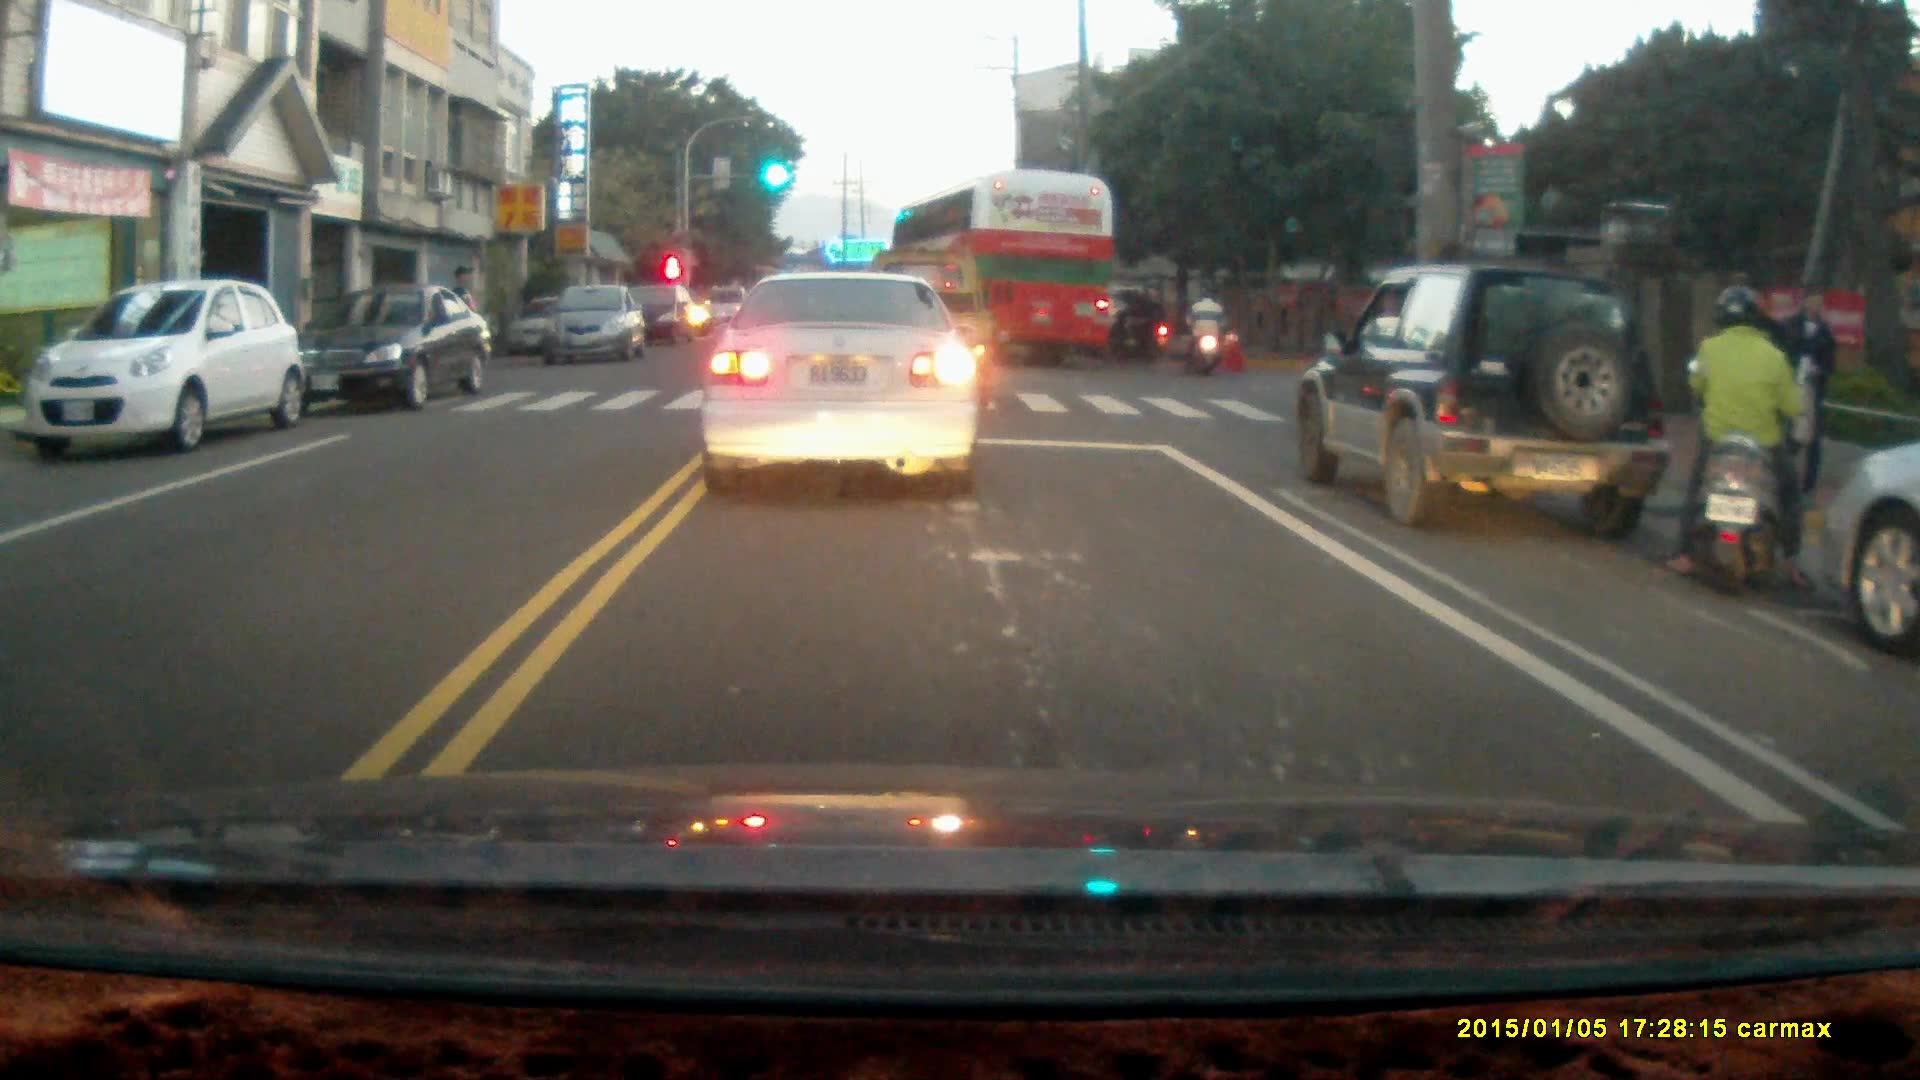pedestrian: (1774, 278, 1836, 503), (446, 263, 480, 371)
rider: (1664, 282, 1815, 594), (1101, 290, 1172, 368), (1184, 286, 1230, 377)
vehicle: (1296, 268, 1679, 539), (694, 269, 984, 495), (15, 281, 300, 454), (881, 171, 1119, 376), (290, 286, 493, 413), (1818, 446, 1920, 664), (537, 287, 644, 371), (610, 286, 705, 350)
